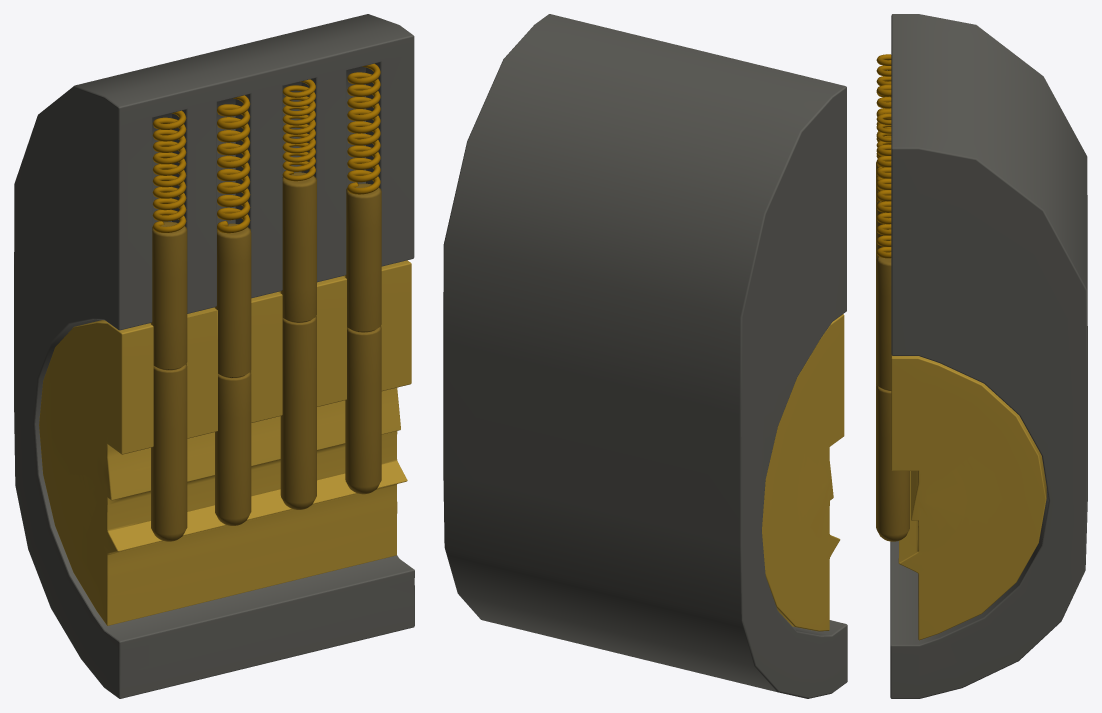
The model's file is LockUVdUpdated.fbx.
3 views of the same model, side by side, from view 1: azimuth 30°, elevation 25°; view 2: azimuth 150°, elevation 25°; view 3: azimuth 270°, elevation 25° (orthographic). The views are drawn at different scales.
Visible parts, largest first — view 1: mesh_outerCasing, mesh_innerTumbler, mesh_pin3bottom, mesh_pin1bottom, mesh_pin4bottom, mesh_pin2bottom, mesh_pin2top, mesh_pin3top, mesh_pin4top, mesh_pin1top, mesh_spring2, mesh_spring4 (+2 smaller); view 2: mesh_outerCasing, mesh_innerTumbler; view 3: mesh_outerCasing, mesh_innerTumbler, mesh_pin4bottom, mesh_pin4top, mesh_spring4, mesh_spring3, mesh_spring1, mesh_spring2.
Part boxes in pixels (x1,y1,x2,y2): mesh_outerCasing: (14, 14, 414, 698); mesh_innerTumbler: (39, 260, 411, 625); mesh_pin3bottom: (280, 316, 316, 509); mesh_pin1bottom: (151, 363, 187, 541); mesh_pin4bottom: (345, 326, 381, 494); mesh_pin2bottom: (215, 371, 251, 525); mesh_pin2top: (215, 223, 251, 378); mesh_pin3top: (280, 172, 316, 322); mesh_pin4top: (345, 183, 381, 332); mesh_pin1top: (151, 222, 187, 370); mesh_spring2: (217, 95, 250, 233); mesh_spring4: (347, 63, 380, 194); mesh_outerCasing: (443, 14, 847, 698); mesh_innerTumbler: (762, 314, 844, 631); mesh_outerCasing: (890, 14, 1087, 698); mesh_innerTumbler: (891, 354, 1046, 640); mesh_pin4bottom: (876, 385, 909, 541); mesh_pin4top: (876, 256, 891, 390); mesh_spring4: (876, 144, 891, 258); mesh_spring3: (876, 113, 891, 201); mesh_spring1: (876, 54, 891, 158); mesh_spring2: (876, 85, 891, 201).
Size of the model in its own units: 0.0204 by 0.039 by 0.0136.
